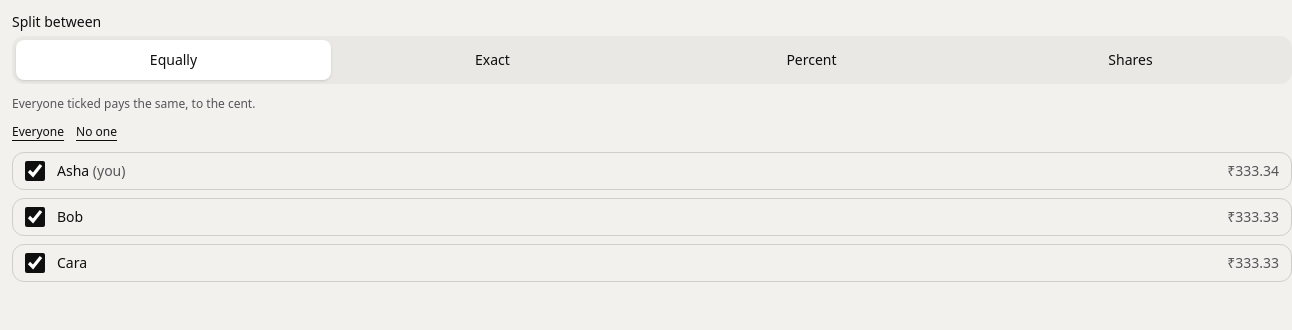
Test: SplitEditor › has Everyone and No one shortcuts
Click the button "No one" at (97, 132), box [76,124,117,140]
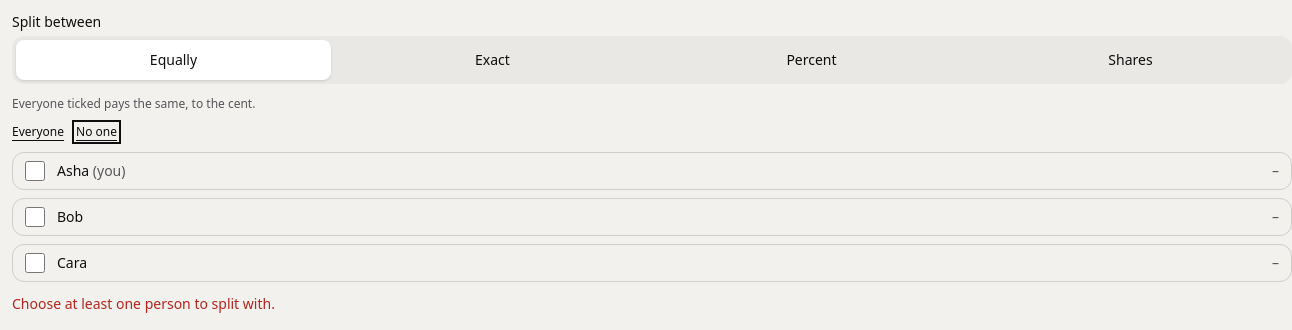
expect the checkbox labelled "Asha (you)" is not checked: met, box [25,161,45,181]
expect the checkbox labelled "Bob" is not checked: met, box [25,207,45,227]
expect the checkbox labelled "Cara" is not checked: met, box [25,253,45,273]
Click the button "Everyone" at (38, 132), box [12,124,64,140]
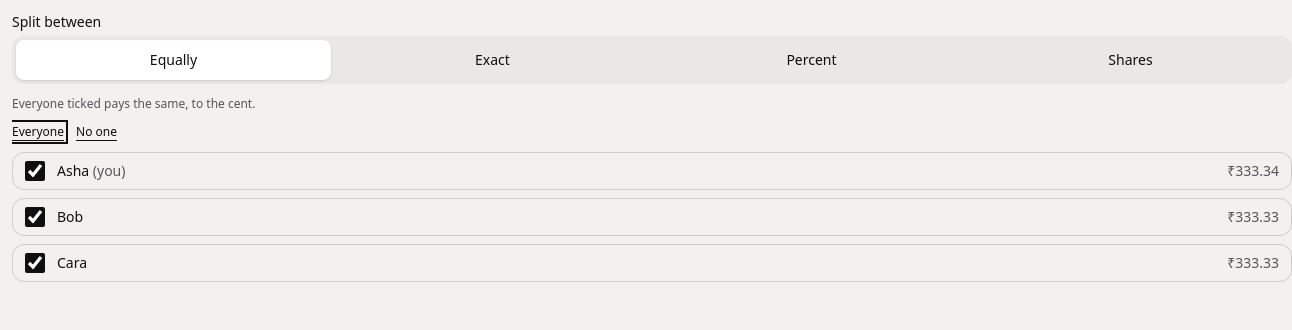
expect the checkbox labelled "Asha (you)" is checked: met, box [25,161,45,181]
expect the checkbox labelled "Bob" is checked: met, box [25,207,45,227]
expect the checkbox labelled "Cara" is checked: met, box [25,253,45,273]
